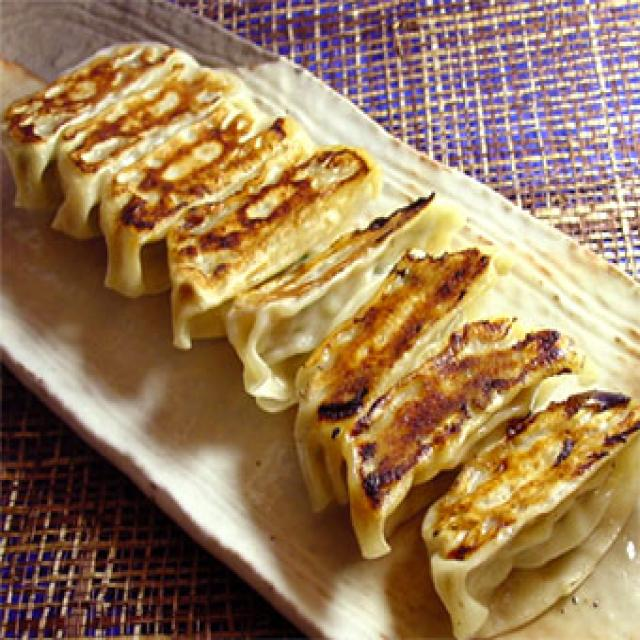带馅早点: (8, 33, 621, 576)
